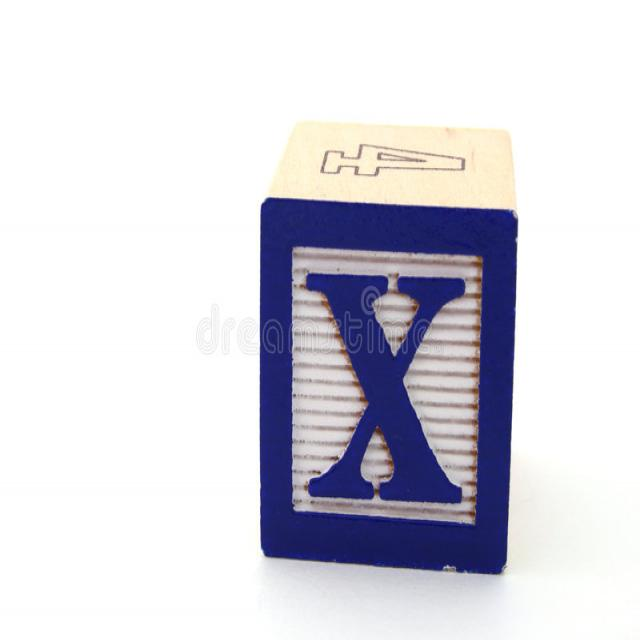X: (301, 252, 470, 519)
